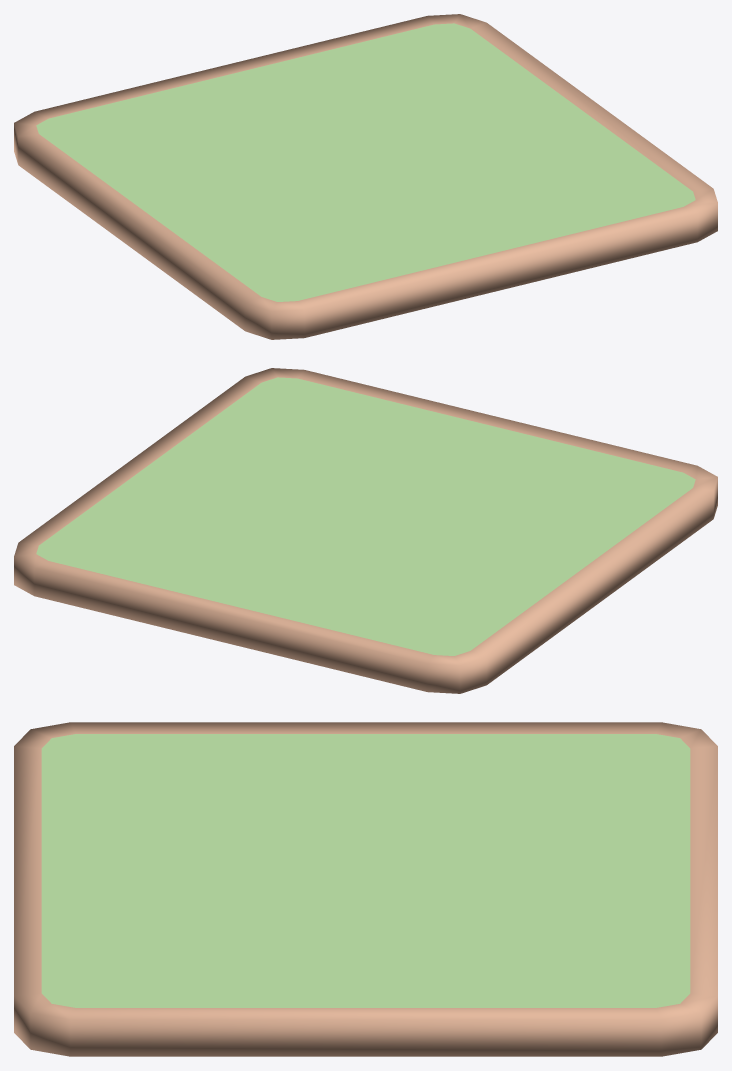
Rendered from [OBJ]CAnteiro.fbx.
The picture shows the model from 3 angles, top to bottom: view 1: azimuth 30°, elevation 25°; view 2: azimuth 150°, elevation 25°; view 3: azimuth 270°, elevation 25°; orthographic projection. The views are drawn at different scales.
Visible parts, largest first — view 1: [OBJ]CAnteiro; view 2: [OBJ]CAnteiro; view 3: [OBJ]CAnteiro.
Part boxes in pixels (left/top/right/bottom): [OBJ]CAnteiro: left=14, top=14, right=717, bottom=339; [OBJ]CAnteiro: left=14, top=368, right=717, bottom=693; [OBJ]CAnteiro: left=14, top=722, right=717, bottom=1056.
Size of the model in its own units: 200 by 11.61 by 200.
